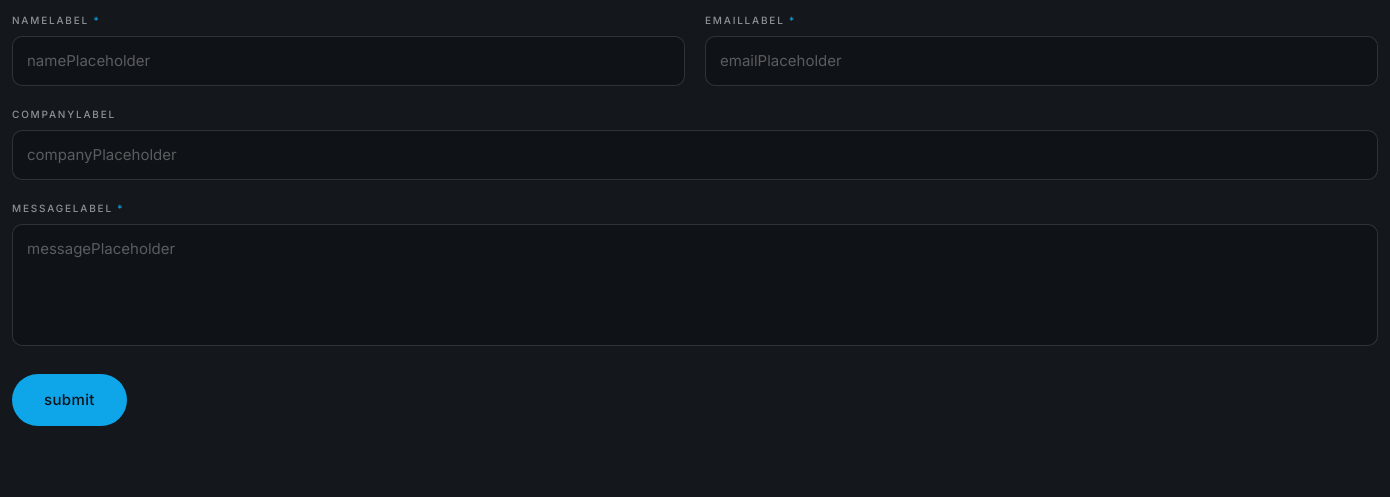
Scenario: ContactForm › shows validation errors on empty submit
Click the button "submit": (69, 400) x1=12 y1=374 x2=127 y2=426
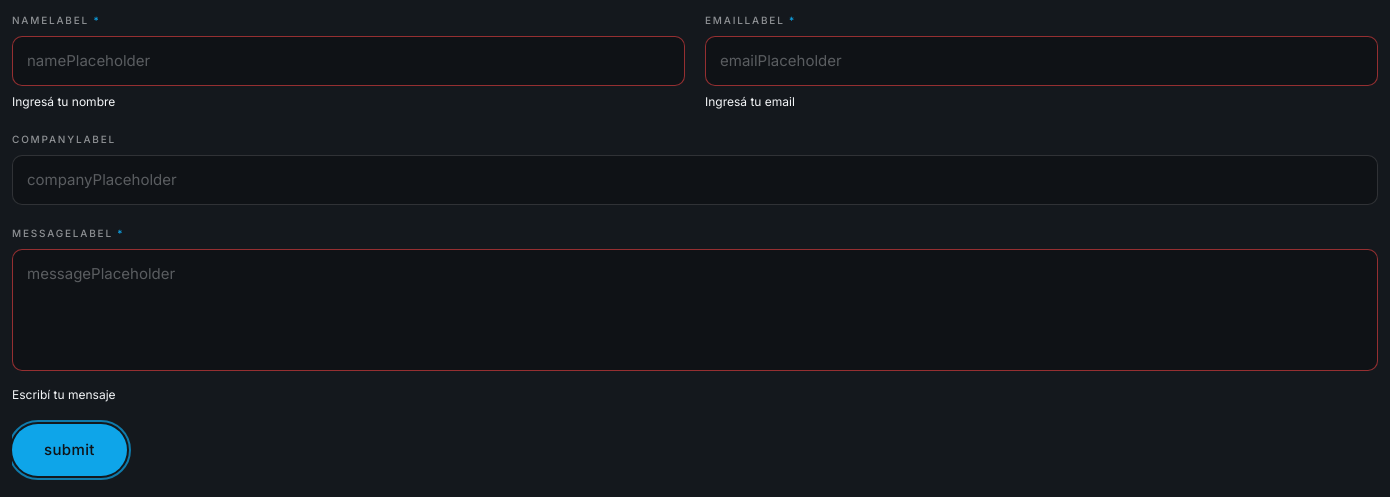
Now the text "Ingresá tu nombre" is shown, box x1=12 y1=94 x2=115 y2=109
Now the text "Ingresá tu email" is shown, box x1=705 y1=94 x2=795 y2=109
Now the text "Escribí tu mensaje" is shown, box x1=12 y1=387 x2=116 y2=402
